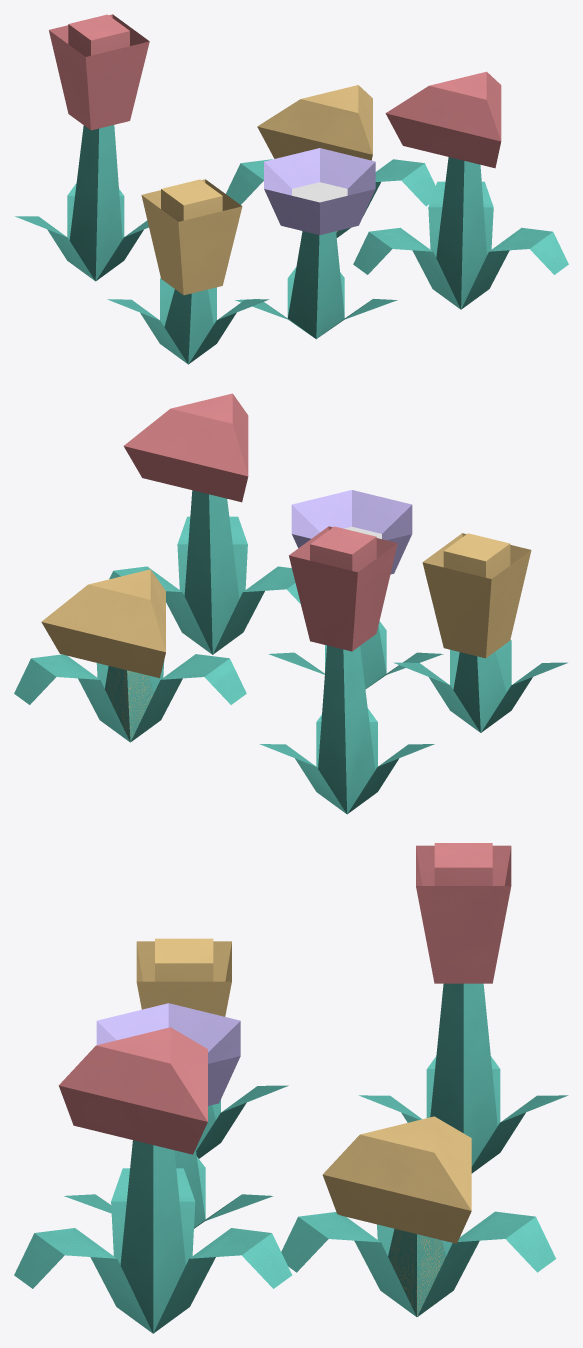
File: flowers.glb
3 renders of one model, top to bottom at view 1: azimuth 30°, elevation 25°; view 2: azimuth 150°, elevation 25°; view 3: azimuth 270°, elevation 25°, orthographic. The views are drawn at different scales.
Parts seen in each view (by area): view 1: flowers; view 2: flowers; view 3: flowers.
Part boxes in pixels (x1,y1,x2,y2): flowers: (15,14,568,364); flowers: (14,393,567,814); flowers: (14,843,568,1333).
Bounding box in the file's own units: 0.7748 × 0.4387 × 0.7152.
5 materials, 5 textured.
